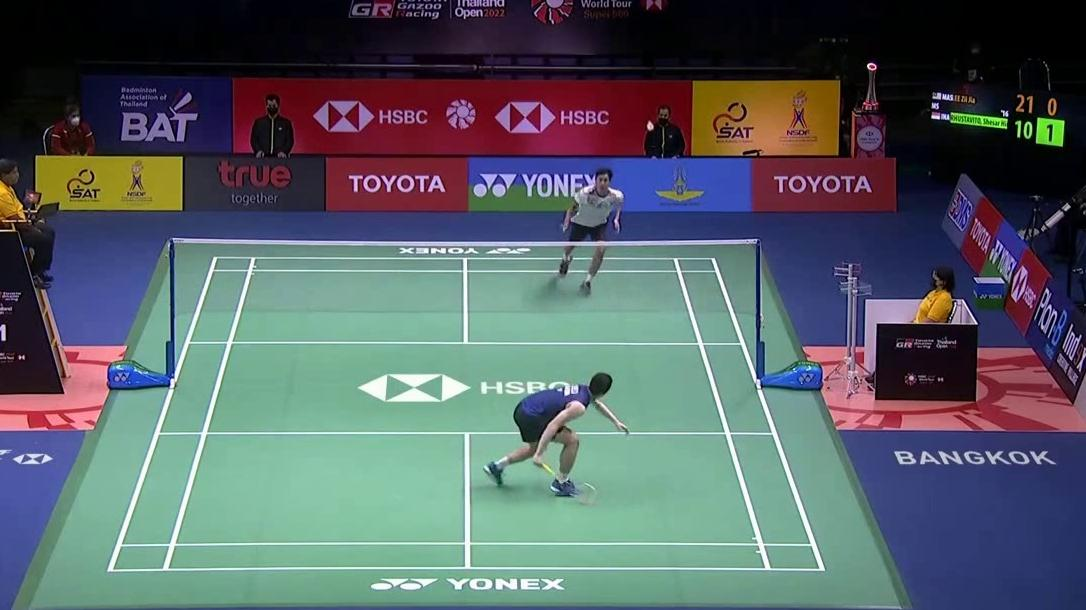racket: (534, 456, 597, 505)
shuttle: (647, 120, 654, 130)
